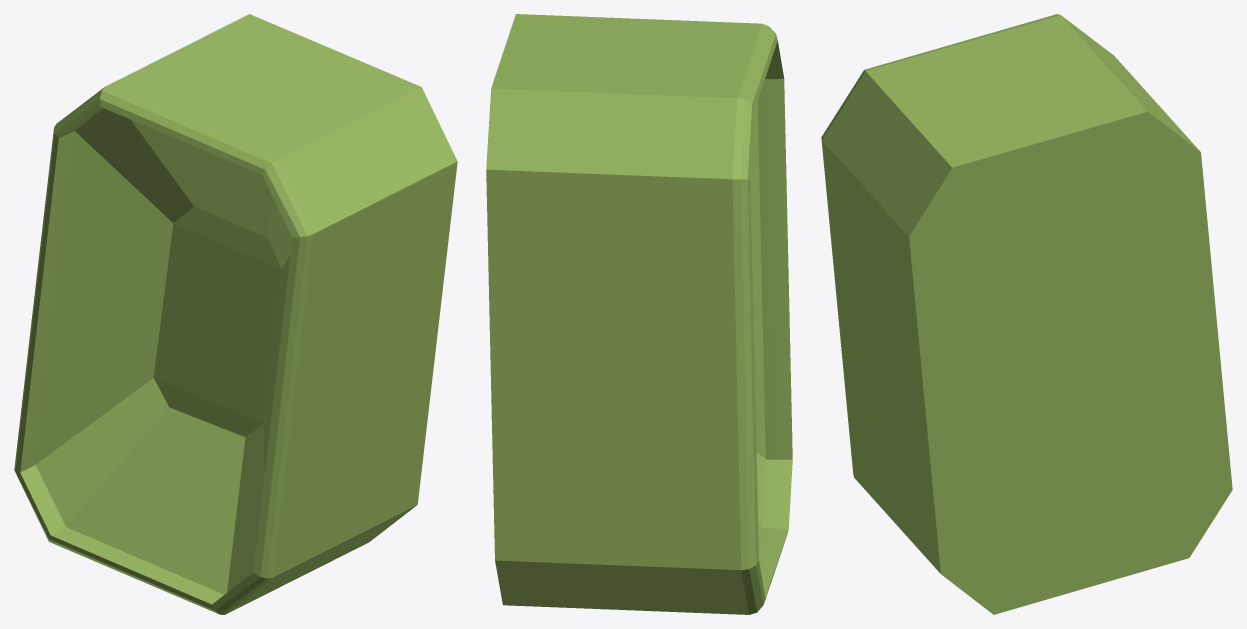
File: BL5_8shapes_Emerald_Classic_Metal.001 3.glb
3 renders of one model, left to right at view 1: azimuth 30°, elevation 25°; view 2: azimuth 150°, elevation 25°; view 3: azimuth 270°, elevation 25°, orthographic. The views are drawn at different scales.
Visible parts, largest first — view 1: BL5_8shapes_Emerald_Classic_Metal.001; view 2: BL5_8shapes_Emerald_Classic_Metal.001; view 3: BL5_8shapes_Emerald_Classic_Metal.001.
Boxes of the visible parts, x1,y1,x2,y2 form: BL5_8shapes_Emerald_Classic_Metal.001: (14,14,457,614); BL5_8shapes_Emerald_Classic_Metal.001: (486,14,792,614); BL5_8shapes_Emerald_Classic_Metal.001: (821,14,1232,614).
Bounding box in the file's own units: 0.4427 × 0.6245 × 0.4778.
